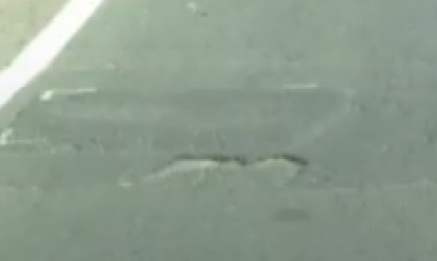Berlubang: (103, 138, 315, 198)
